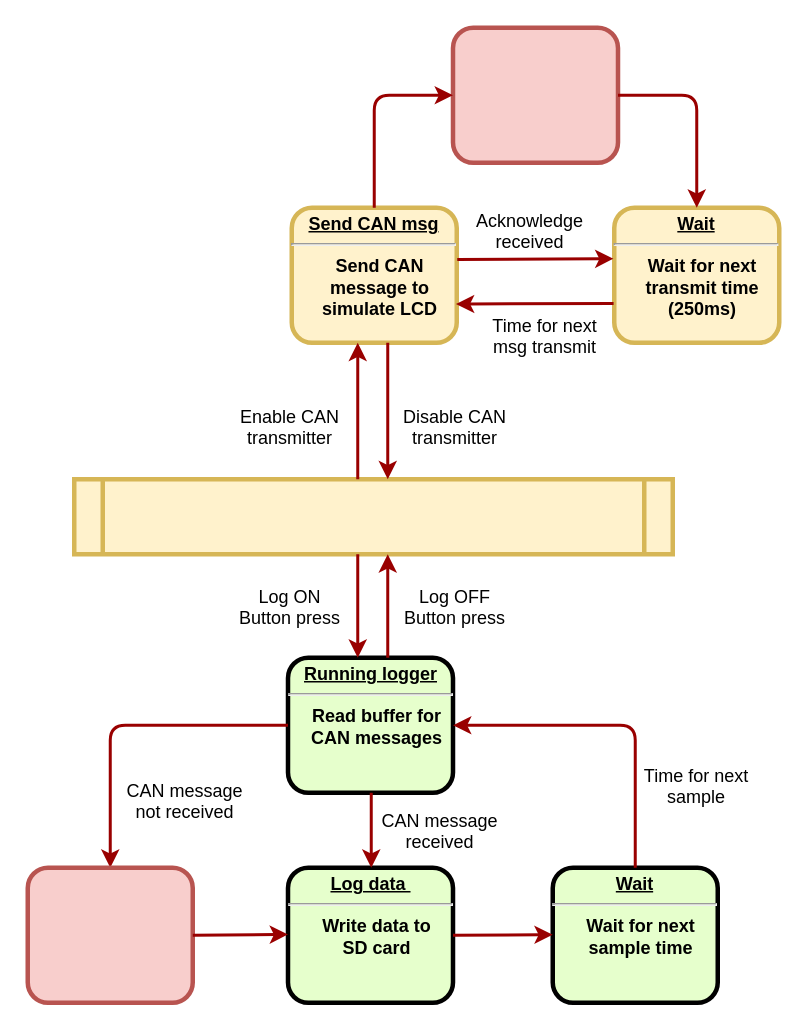
Image size: 807x1031. Some labels were removed from this diagram. Each missing label, with the centre of its shape:
"Idle mode" goes at point 372,516.
"Set fail flag Fail flag 0x10 Set to indicate CAN RX error" goes at point 109,934.
"Set fail flag Fail flag 0x20 set to indicate transmit error" goes at point 535,94.
